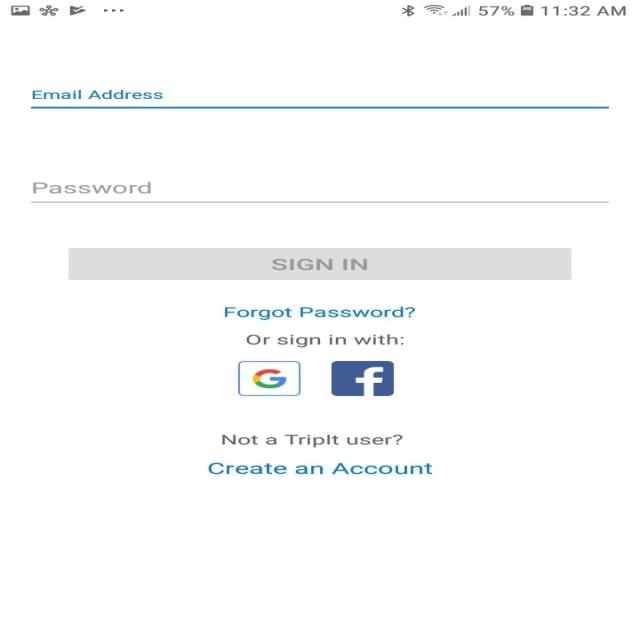EditText: (30, 182, 609, 203), (30, 90, 609, 109)
Icon: (331, 360, 394, 396), (238, 360, 300, 396)
Text: (207, 461, 432, 474), (221, 433, 403, 448), (224, 306, 415, 320), (246, 333, 404, 348), (32, 182, 151, 194), (31, 90, 163, 100)
TextButton: (68, 248, 570, 280)
